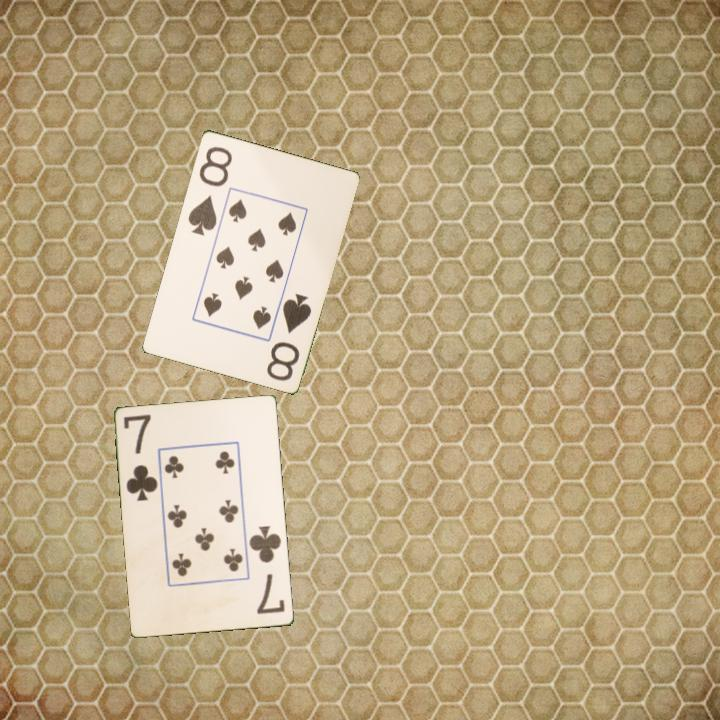7c: (246, 522, 288, 617), (120, 411, 161, 504)
8s: (184, 142, 235, 238), (263, 290, 314, 383)
